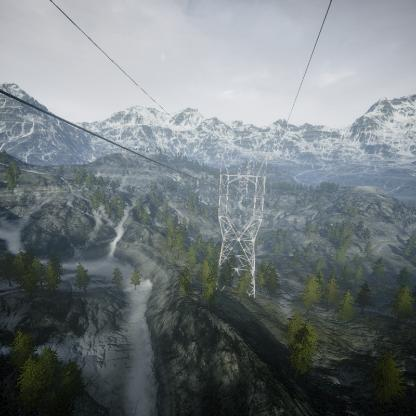tower: (211, 152, 271, 302)
